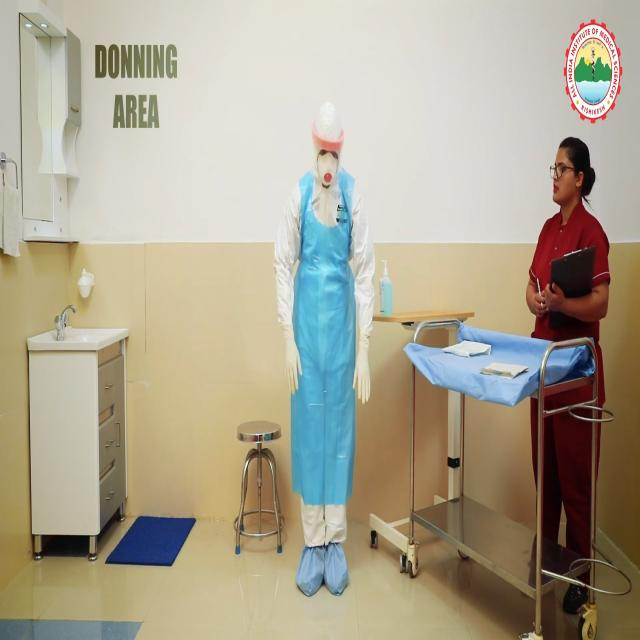Gloves: (351, 332, 378, 415), (279, 326, 305, 395)
